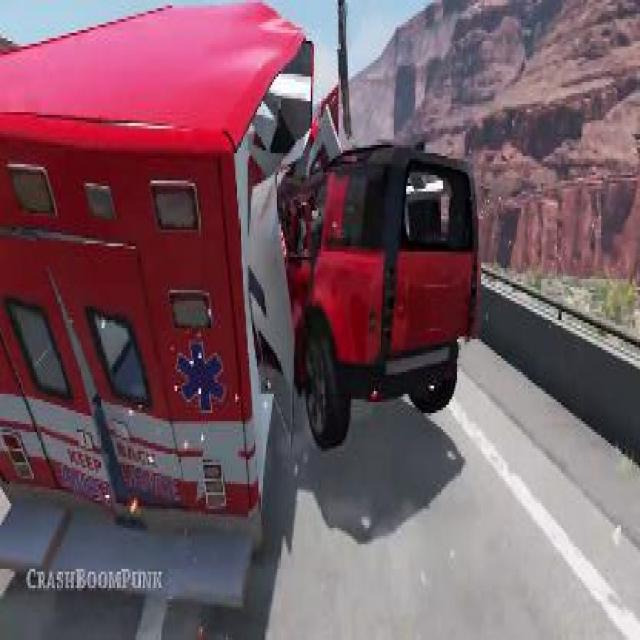accident: (0, 0, 488, 621)
